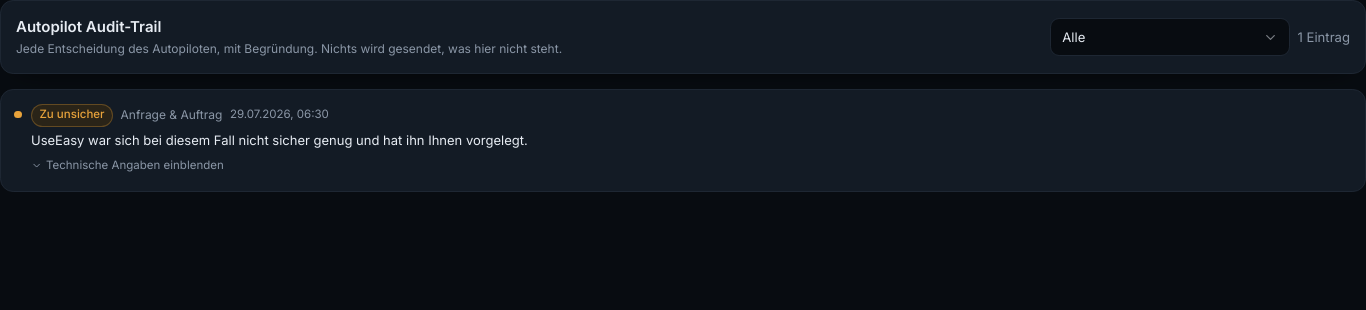
Test case: Audit-Trail: Klartext statt Maschinenraum › blendet die Roh-Kennungen aus, bis man sie ausdruecklich anfordert
Expected: the text "9f1d5c7e-4b2a-4c11-9d3e-77aa0c1b2f88" is not shown
Step 1. Click the button "Technische Angaben einblenden" → (127,165), box [31,155,224,174]
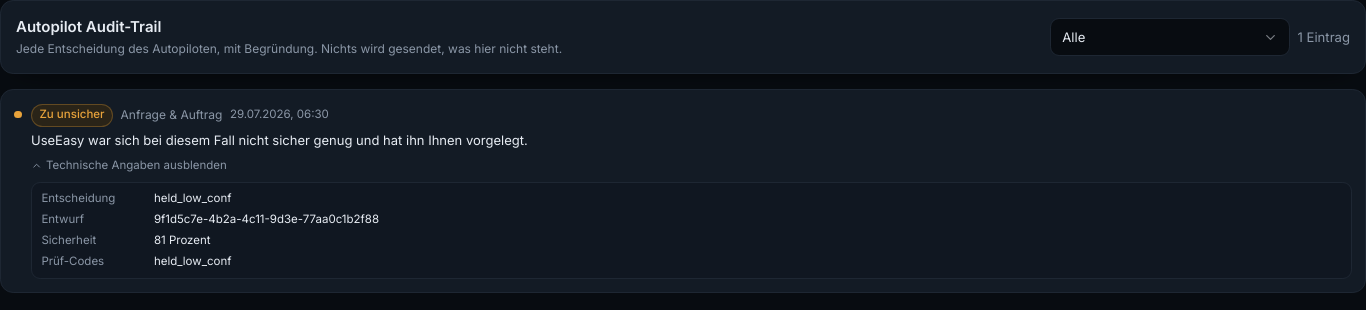
Result: the text "9f1d5c7e-4b2a-4c11-9d3e-77aa0c1b2f88" is shown at [154,211,379,228]
Result: the text "held_low_conf" is shown at [154,190,232,207]
Result: the text "81 Prozent" is shown at [154,232,211,249]
